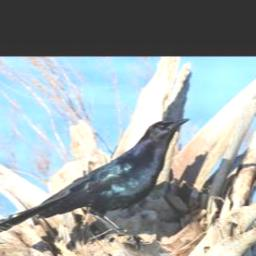Crow: (0, 117, 191, 250)
